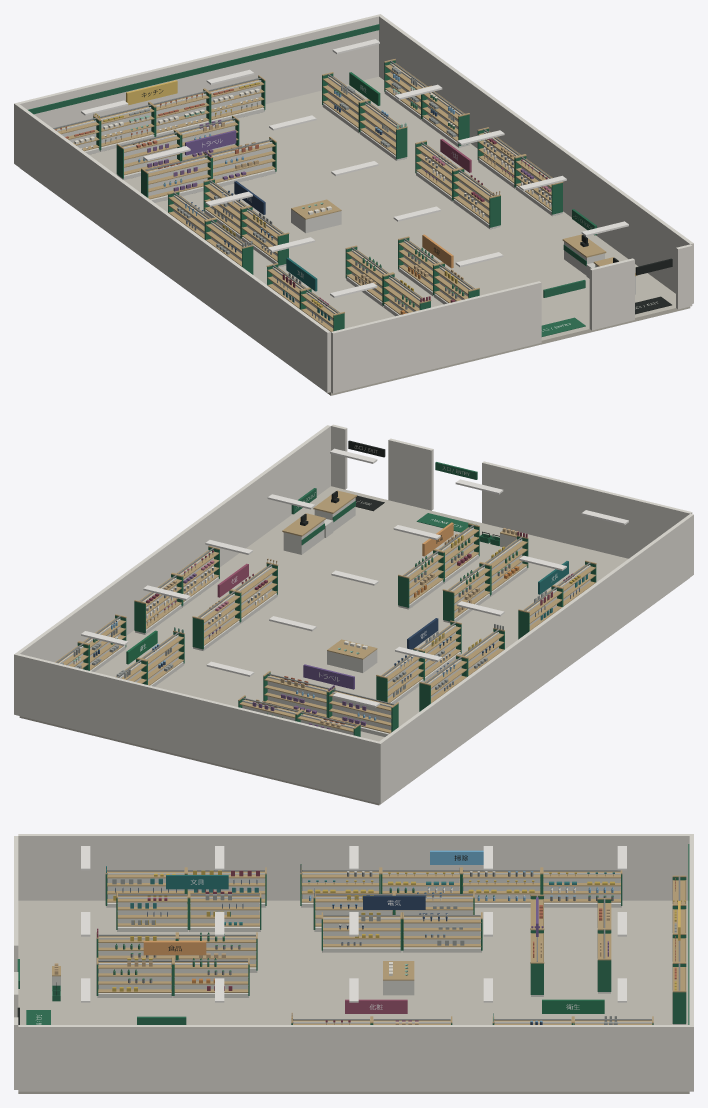
File: smart-store-retail-v05.glb
3 renders of one model, top to bottom at view 1: azimuth 30°, elevation 25°; view 2: azimuth 150°, elevation 25°; view 3: azimuth 270°, elevation 25°, orthographic. The views are drawn at different scales.
Visible parts, largest first — view 1: Floor_20m_x_30m, Side_Interior_Wall, Side_Interior_Wall.001, Store_FrontWall_Left, Back_Interior_Wall, Store_FrontWall_Center, Back_Accent_Band, Shelf_Travel_01, Shelf_Travel_02, Shelf_Kitchen_04, Shelf_Hygiene_01, Shelf_Kitchen_02 (+25 smaller); view 2: Floor_20m_x_30m, Back_Interior_Wall, Side_Interior_Wall, Side_Interior_Wall.001, Store_FrontWall_Left, Store_FrontWall_Center, Shelf_Travel_01, Shelf_Travel_02, Shelf_Beauty_02, Shelf_Food_04, Shelf_Beauty_04, Shelf_Food_02 (+19 smaller); view 3: Floor_20m_x_30m, Side_Interior_Wall.001, Side_Interior_Wall, Shelf_Electrical_04, Shelf_Food_03, Shelf_Electrical_03, Shelf_Cleaning_04, Shelf_Stationery_03, Shelf_Food_04, Shelf_Cleaning_03, Shelf_Stationery_04, Shelf_Cleaning_01 (+29 smaller).
Part boxes in pixels (left/top/right/bottom): Floor_20m_x_30m: left=20, top=76, right=690, bottom=395; Side_Interior_Wall: left=16, top=104, right=330, bottom=392; Side_Interior_Wall.001: left=379, top=15, right=693, bottom=303; Store_FrontWall_Left: left=331, top=281, right=541, bottom=393; Back_Interior_Wall: left=14, top=14, right=382, bottom=164; Store_FrontWall_Center: left=589, top=258, right=634, bottom=330; Back_Accent_Band: left=28, top=24, right=379, bottom=114; Shelf_Travel_01: left=141, top=152, right=211, bottom=202; Shelf_Travel_02: left=210, top=137, right=276, bottom=186; Shelf_Kitchen_04: left=204, top=75, right=265, bottom=123; Shelf_Hygiene_01: left=359, top=99, right=407, bottom=160; Shelf_Kitchen_02: left=94, top=102, right=155, bottom=151; Floor_20m_x_30m: left=19, top=486, right=689, bottom=805; Back_Interior_Wall: left=14, top=653, right=382, bottom=803; Side_Interior_Wall: left=379, top=513, right=693, bottom=802; Side_Interior_Wall.001: left=16, top=425, right=330, bottom=662; Store_FrontWall_Left: left=482, top=461, right=692, bottom=558; Store_FrontWall_Center: left=388, top=438, right=433, bottom=510; Shelf_Travel_01: left=328, top=687, right=398, bottom=736; Shelf_Travel_02: left=263, top=671, right=329, bottom=717; Shelf_Beauty_02: left=192, top=589, right=240, bottom=650; Shelf_Food_04: left=398, top=549, right=444, bottom=609; Shelf_Beauty_04: left=134, top=573, right=182, bottom=634; Shelf_Food_02: left=442, top=562, right=490, bottom=623; Floor_20m_x_30m: left=18, top=900, right=689, bottom=1093; Side_Interior_Wall.001: left=18, top=1025, right=689, bottom=1091; Side_Interior_Wall: left=18, top=834, right=689, bottom=900; Shelf_Electrical_04: left=402, top=912, right=482, bottom=952; Shelf_Food_03: left=96, top=957, right=173, bottom=997; Shelf_Electrical_03: left=321, top=912, right=401, bottom=952; Shelf_Cleaning_04: left=542, top=867, right=622, bottom=907; Shelf_Stationery_03: left=116, top=891, right=188, bottom=931; Shelf_Food_04: left=173, top=957, right=249, bottom=997; Shelf_Cleaning_03: left=461, top=867, right=541, bottom=907; Shelf_Stationery_04: left=189, top=891, right=261, bottom=931; Shelf_Cleaning_01: left=300, top=867, right=380, bottom=907.
Size of the model in its own units: 20.4 by 3.75 by 30.4.
